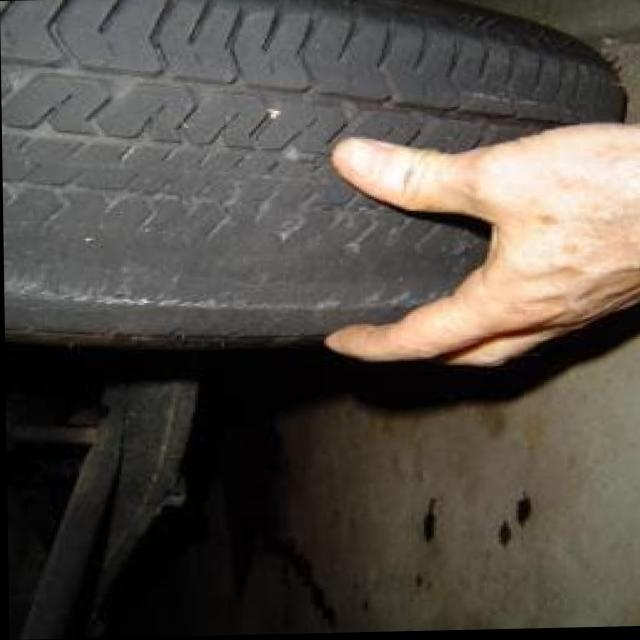Flat spots: (5, 199, 427, 328), (17, 93, 304, 193)
